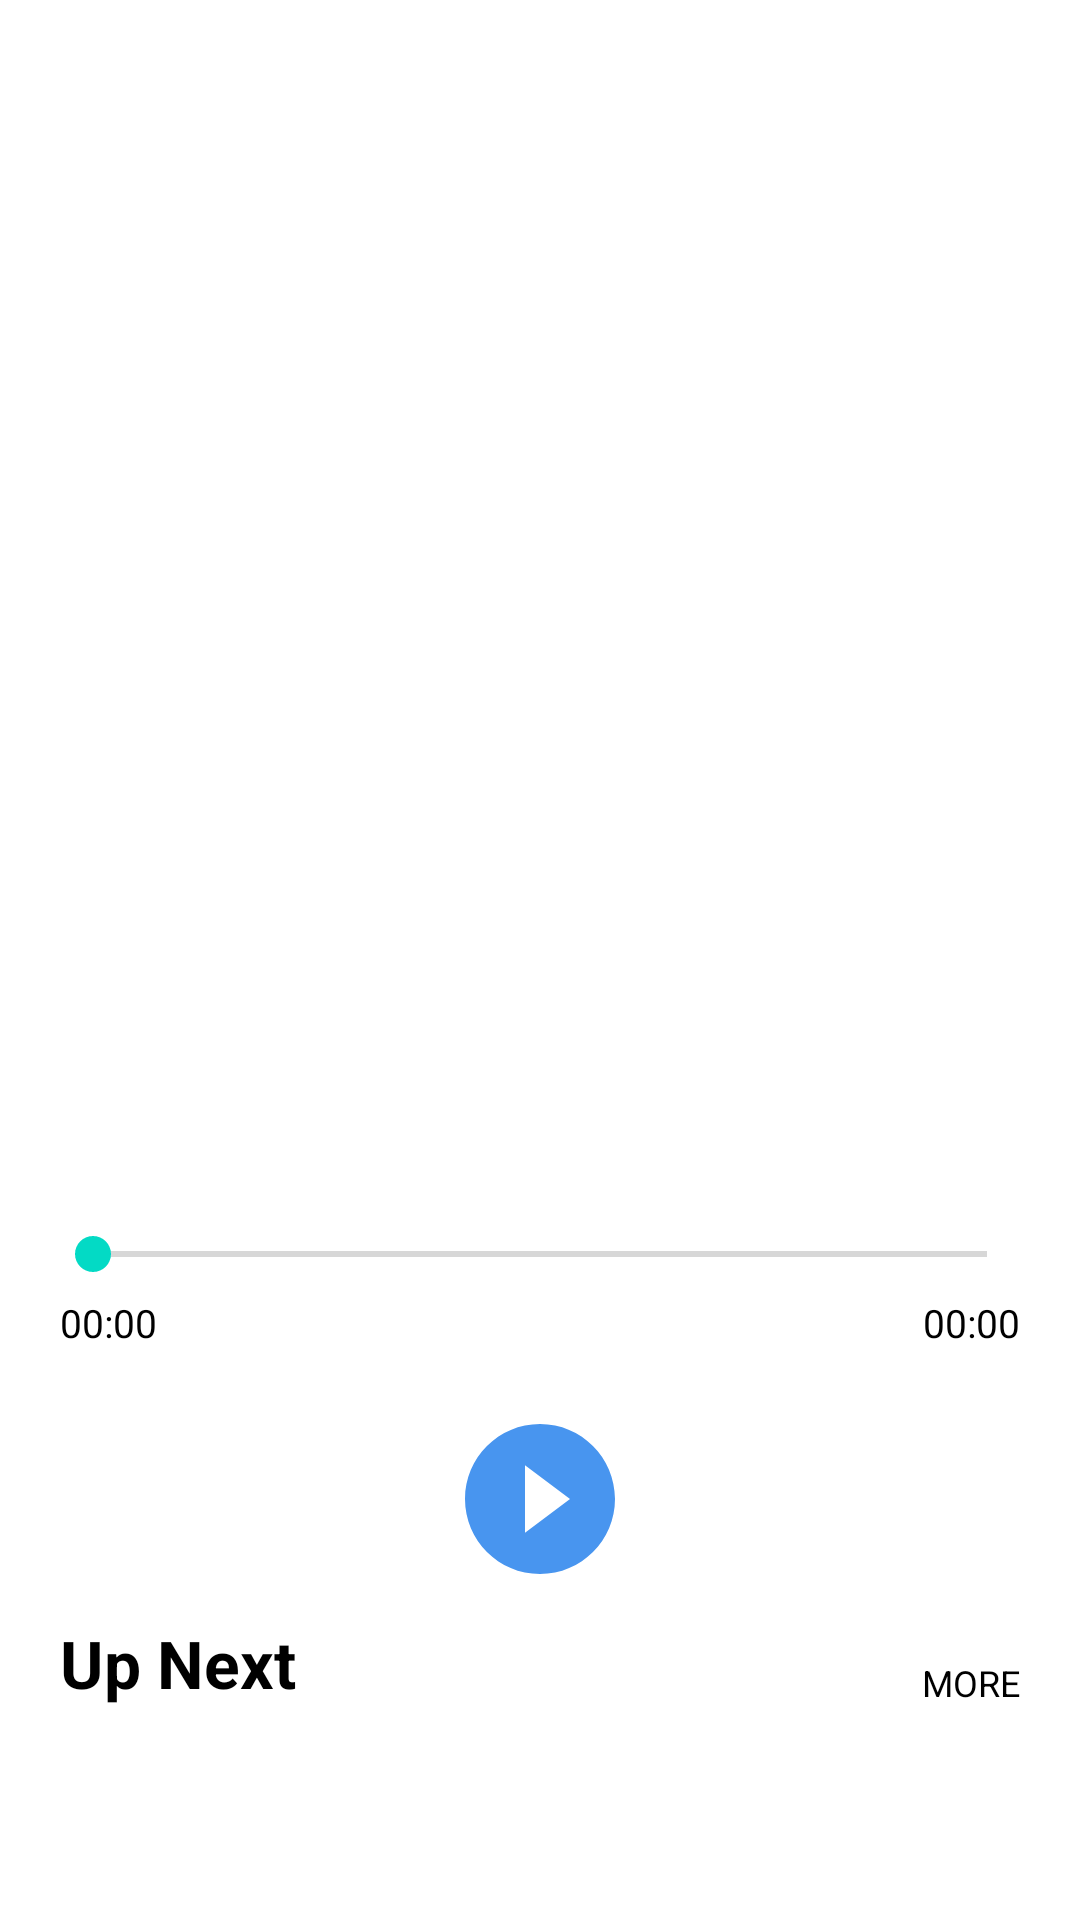

Screen size 1080 × 1920. Icon name, then its center in pixels as (x=x, y=y):
play circle: (x=540, y=1499)
